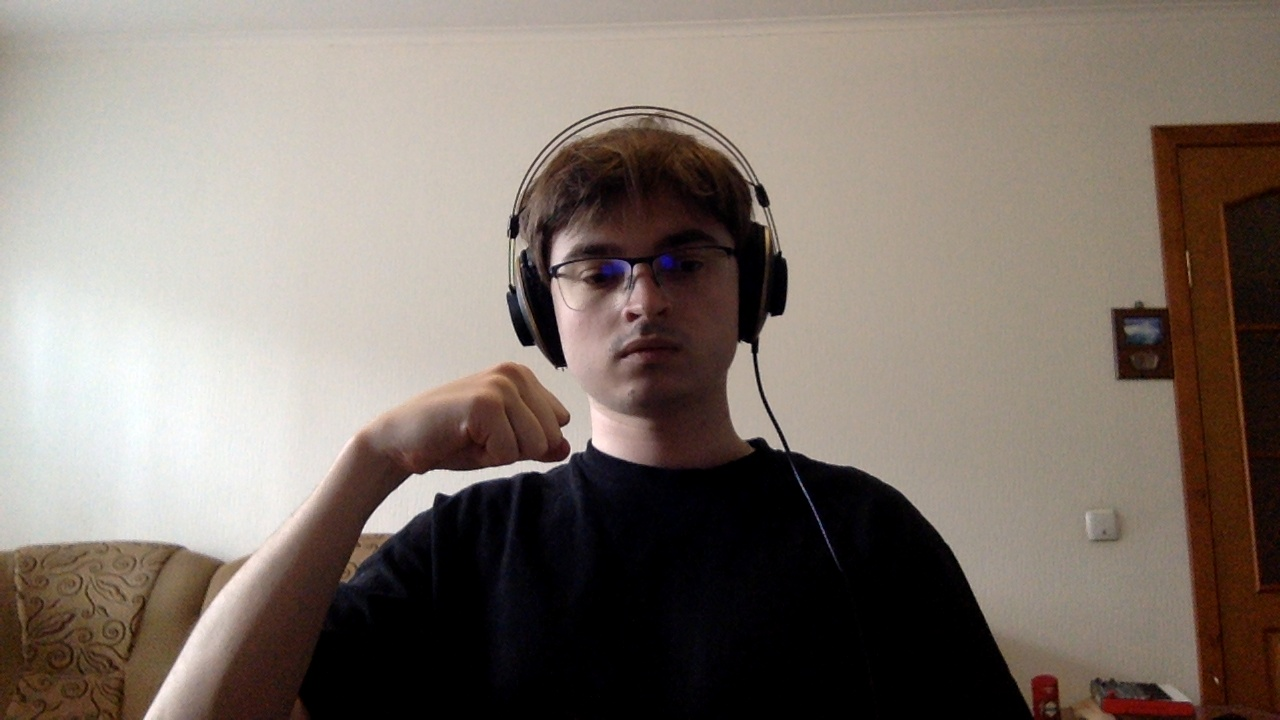yes: (319, 328, 606, 512)
